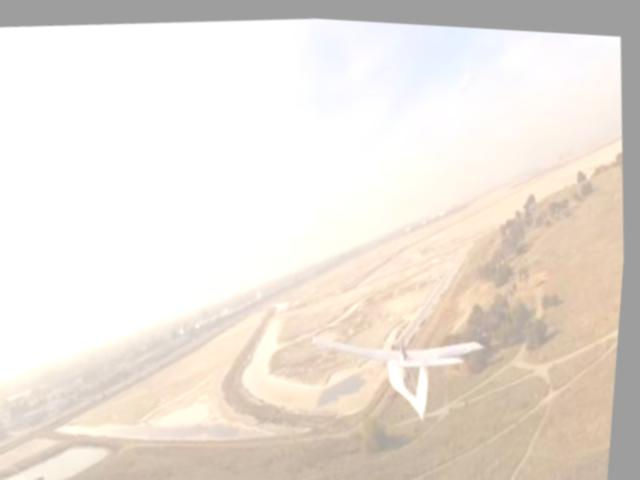uav: (307, 300, 504, 432)
